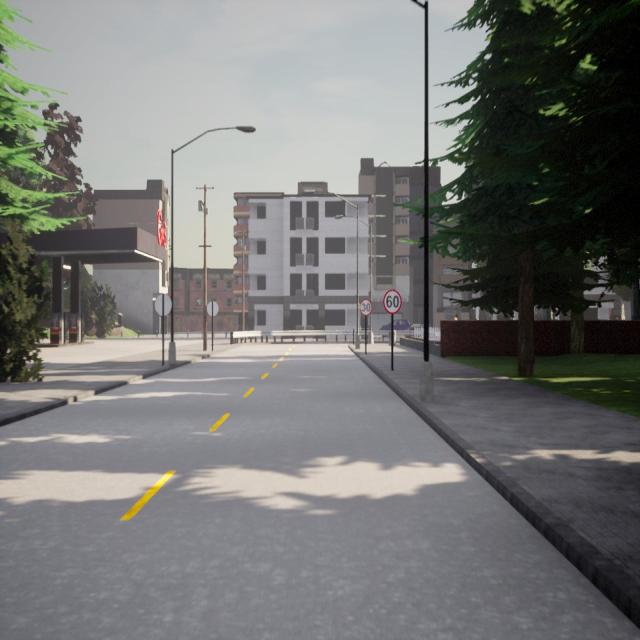Pedestrian: (454, 314, 458, 320)
Traffic_Signs: (382, 290, 402, 313), (154, 294, 172, 316), (206, 300, 219, 318), (360, 299, 372, 315)
Vehicle: (380, 319, 410, 330), (405, 324, 423, 337)
